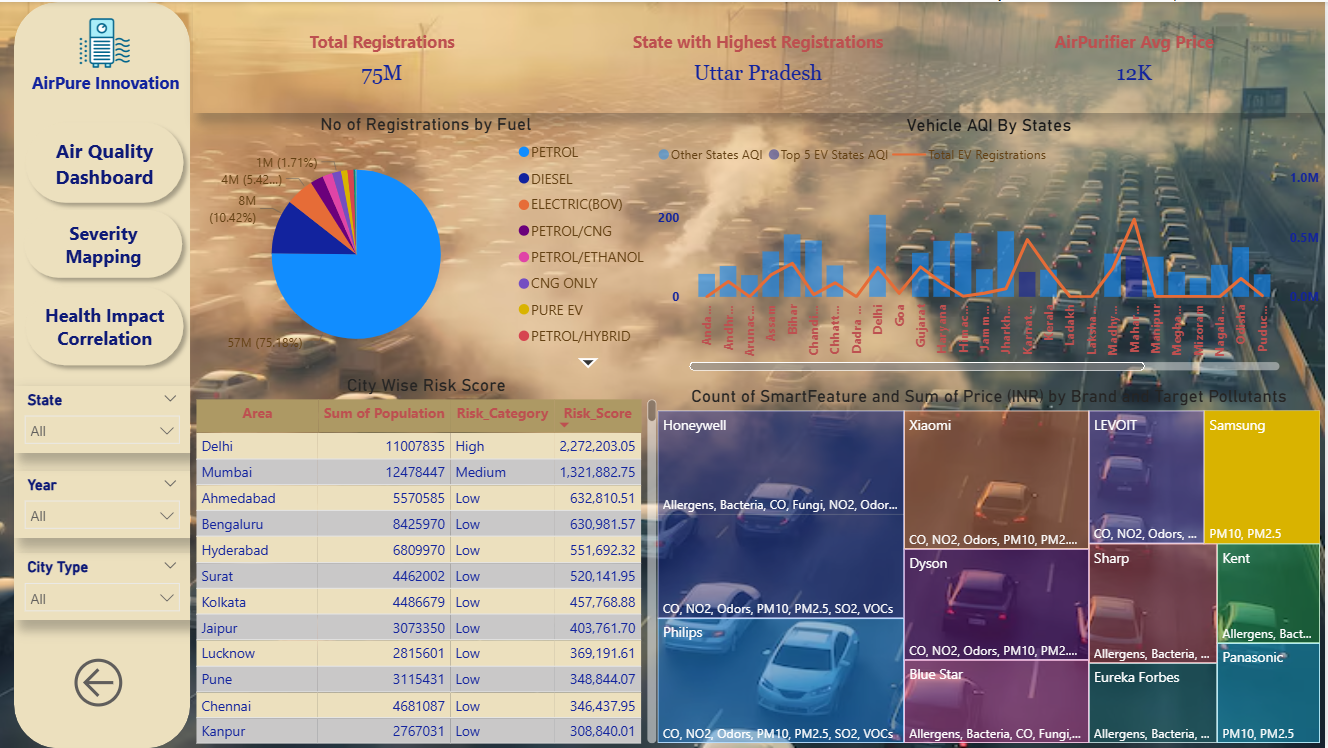

This screenshot's page, from the dashboard's own definition file:
{"tool":"powerbi","page":{"name":"Vehicle And Pollution Analysis","canvas":[1280,720],"ordinal":4},"visuals":[{"type":"shape","box":[14.5,0,170.1,720.2],"z":0},{"type":"image","box":[66.4,0,71.2,79.6],"z":1000},{"type":"textbox","box":[26.5,61.5,170.1,45.8],"z":2000},{"type":"shape","box":[16.9,107.4,170.1,95.3],"z":3000},{"type":"shape","box":[16.9,266.6,170.1,92.9],"z":4000},{"type":"shape","box":[15.7,191.8,170.1,83.2],"z":5000},{"type":"slicer","fields":{"Values":["aqi.year"]},"box":[14.5,452.4,170.1,65.1],"z":6000},{"type":"slicer","fields":{"Values":["aqi.city type"]},"box":[14.5,532,170.1,65.1],"z":7000},{"type":"slicer","fields":{"Values":["aqi.state"]},"box":[14.5,370.4,170.1,65.1],"z":8000},{"type":"cardVisual","fields":{"Data":["Key Measures.Total Registrations","Key Measures.State with Highest Registrations","Key Measures.Product Average Price"]},"box":[187,0,1093,107.4],"z":9000},{"type":"lineStackedColumnComboChart","title":"Vehicle AQI By States","fields":{"Category":["vahan.state"],"Y":["Key Measures.Other States AQI","Key Measures.Top 5 EV States AQI"],"Y2":["Key Measures.Total EV Registrations"]},"box":[631,108.6,649.1,252.1],"z":10000},{"type":"pieChart","title":"No of Registrations by Fuel","fields":{"Category":["vahan.fuel"],"Y":["Sum(vahan.value)"]},"box":[184.6,107.4,454.8,253.4],"z":11000},{"type":"treemap","fields":{"Group":["AirPurifierMarket.Brand"],"Details":["AirPurifierMarket.Target Pollutants"],"Values":["CountNonNull(Smart Features Provided.SmartFeature)"]},"box":[631,370.4,649.1,349.9],"z":12000},{"type":"pivotTable","title":"City Wise Risk Score","fields":{"Rows":["Area_Wise_Population.Area"],"Values":["Sum(Area_Wise_Population.Population)","Key Measures.Risk_Category","Key Measures.Risk_Score"]},"box":[185.8,359.5,453.6,360.7],"z":13000},{"type":"actionButton","box":[66.4,624.9,59.1,63.9],"z":14000}]}

Visuals, with their boxes in screenshot pixels (x1, y1, x2, y2), scaled from the page's 1280x720 canvas onto the 1328x748 screenshot:
shape: Rect(15, 0, 192, 747)
image: Rect(69, 0, 143, 83)
textbox: Rect(27, 64, 204, 111)
shape: Rect(18, 112, 194, 211)
shape: Rect(18, 277, 194, 373)
shape: Rect(16, 199, 193, 286)
slicer - aqi.year: Rect(15, 470, 192, 538)
slicer - aqi.city type: Rect(15, 553, 192, 620)
slicer - aqi.state: Rect(15, 385, 192, 452)
cardVisual - Key Measures.Total Registrations x Key Measures.State with Highest Registrations: Rect(194, 0, 1327, 112)
"Vehicle AQI By States" lineStackedColumnComboChart: Rect(655, 113, 1327, 375)
"No of Registrations by Fuel" pieChart: Rect(192, 112, 663, 375)
treemap - AirPurifierMarket.Brand x AirPurifierMarket.Target Pollutants: Rect(655, 385, 1327, 747)
"City Wise Risk Score" pivotTable: Rect(193, 373, 663, 747)
actionButton: Rect(69, 649, 130, 716)
